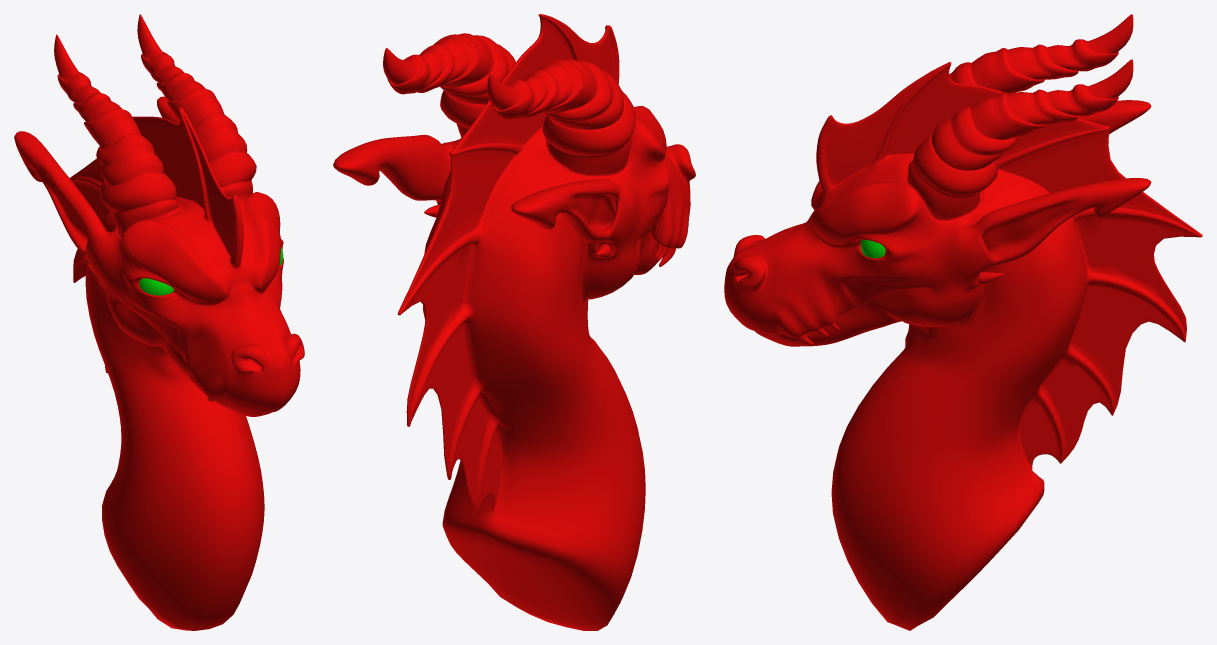
The model's file is Dragon Head.fbx.
The picture shows the model from 3 angles, left to right: view 1: azimuth 30°, elevation 25°; view 2: azimuth 150°, elevation 25°; view 3: azimuth 270°, elevation 25°; orthographic projection. The views are drawn at different scales.
Parts seen in each view (by area): view 1: DragonHead, eyeGlass_Right; view 2: DragonHead; view 3: DragonHead.
Part boxes in pixels (left/top/right/bottom): DragonHead: left=14, top=14, right=304, bottom=630; eyeGlass_Right: left=139, top=278, right=173, bottom=295; DragonHead: left=333, top=14, right=695, bottom=630; DragonHead: left=724, top=14, right=1202, bottom=630.
Size of the model in its own units: 2.9 by 8.83 by 6.54.
